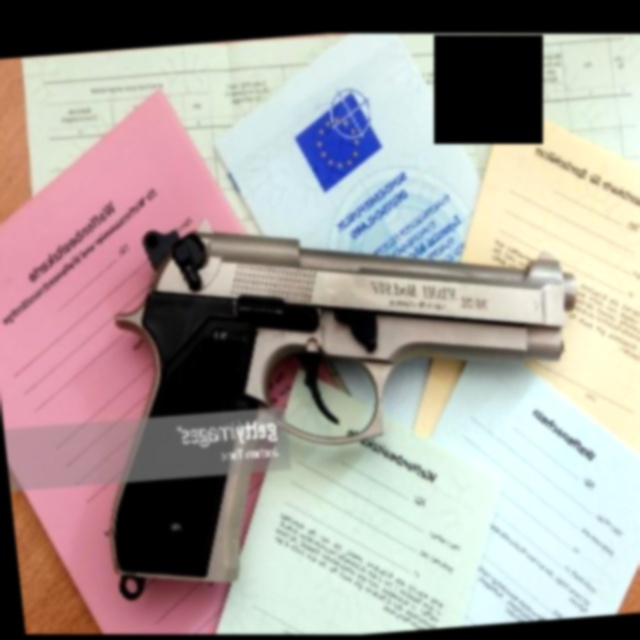gun: (84, 200, 611, 603)
